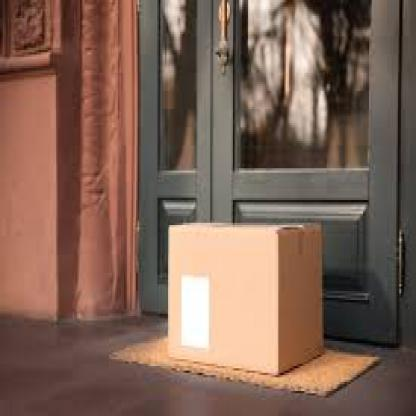package: (168, 219, 323, 380)
